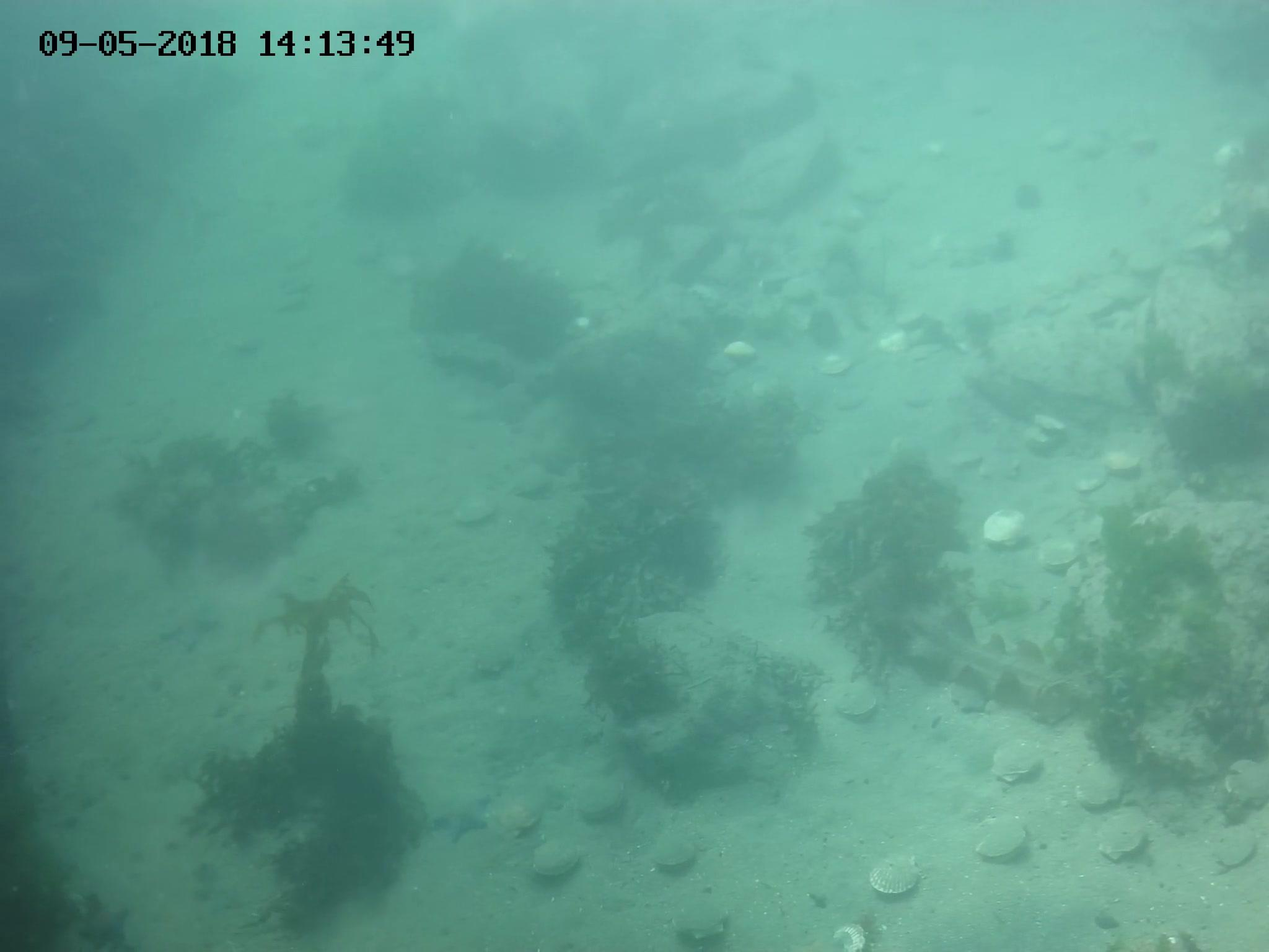holothurian: (427, 786, 494, 845), (154, 601, 219, 654), (77, 892, 136, 948)
scallop: (1074, 759, 1132, 812), (674, 897, 735, 946), (870, 844, 922, 901), (971, 815, 1031, 864), (1097, 812, 1149, 867), (990, 736, 1047, 785), (1223, 755, 1269, 815), (530, 835, 588, 877), (576, 778, 629, 821), (981, 503, 1030, 548), (470, 635, 515, 678), (947, 677, 996, 715), (1035, 536, 1084, 573), (501, 796, 548, 833), (649, 840, 700, 871), (836, 690, 881, 723), (1100, 444, 1141, 478), (450, 499, 496, 529), (874, 324, 911, 359), (1071, 467, 1112, 496), (831, 921, 867, 952), (1218, 834, 1255, 863), (816, 353, 856, 378), (721, 338, 758, 363), (1030, 410, 1065, 432)
